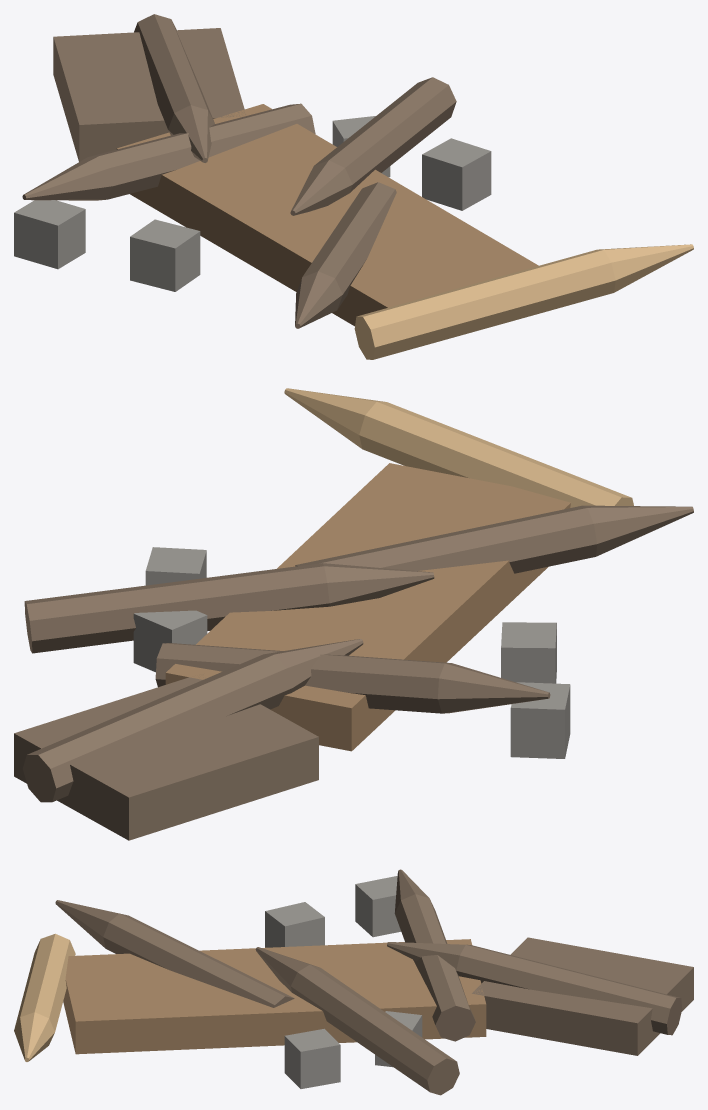
Rendered from ws_ruin_gate_barricade_r.glb.
The picture shows the model from 3 angles, top to bottom: view 1: azimuth 30°, elevation 25°; view 2: azimuth 150°, elevation 25°; view 3: azimuth 270°, elevation 25°; orthographic projection. The views are drawn at different scales.
Parts seen in each view (by area): view 1: ws_ruin_gate_barricade_r; view 2: ws_ruin_gate_barricade_r; view 3: ws_ruin_gate_barricade_r.
Part boxes in pixels (box(x1,y1,x2,y2)): ws_ruin_gate_barricade_r: box(14, 14, 693, 359); ws_ruin_gate_barricade_r: box(14, 388, 693, 840); ws_ruin_gate_barricade_r: box(14, 869, 693, 1095).
Size of the model in its own units: 0.8879 by 0.1266 by 1.32.
